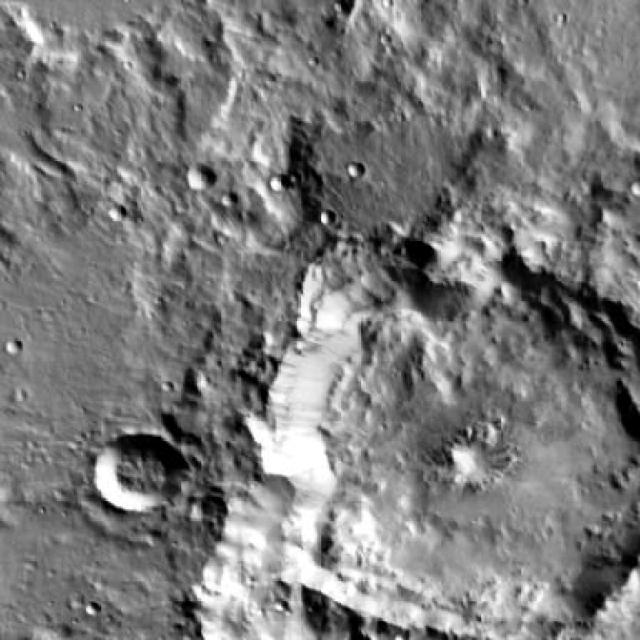crater: (257, 261, 640, 640), (297, 240, 438, 366), (96, 440, 182, 517), (244, 423, 274, 448), (185, 175, 212, 199), (265, 182, 284, 200), (23, 324, 42, 339)
